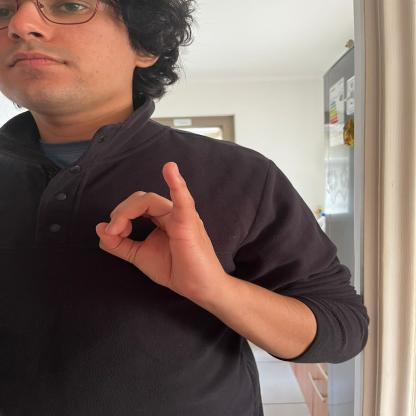D: (87, 156, 215, 287)
